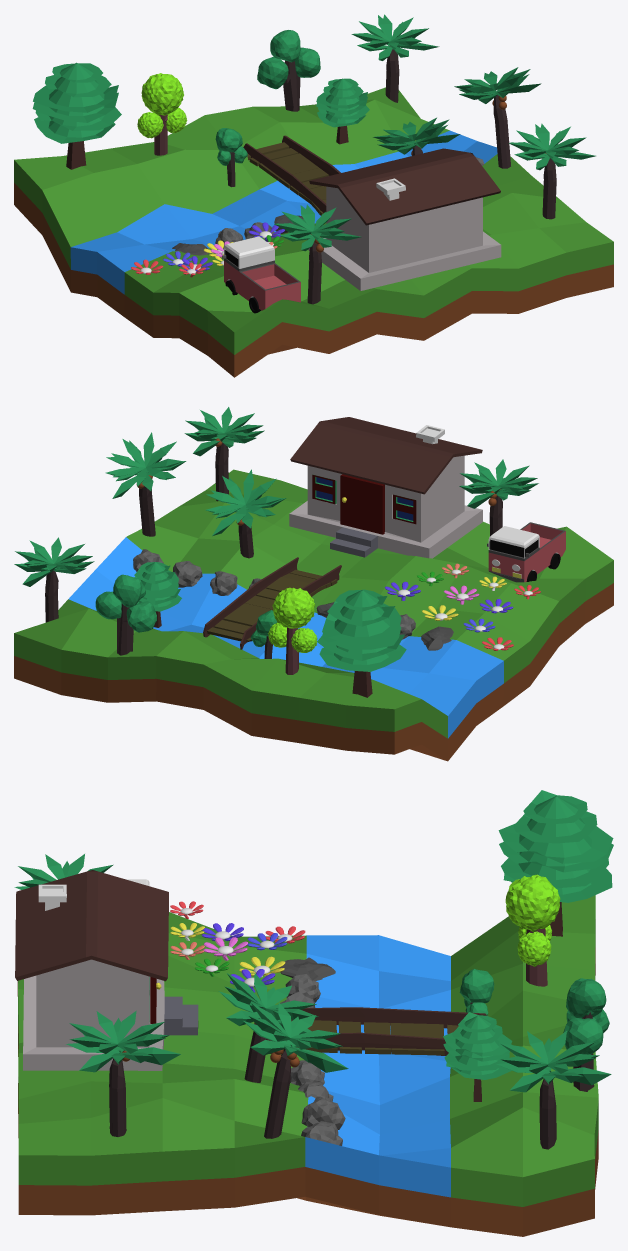
The model's file is Island  2.fbx.
The picture shows the model from 3 angles, top to bottom: view 1: azimuth 30°, elevation 25°; view 2: azimuth 150°, elevation 25°; view 3: azimuth 270°, elevation 25°; orthographic projection. The views are drawn at different scales.
Parts seen in each view (by area): view 1: terreno, House, ROOF, Pine, Car, Bridge, tree 3, Tree 4, Cococonut tree 1, Coconut tree, Coconut tree.002, Cocunt tree 3 (+3 smaller); view 2: terreno, House, ROOF, Pine, Bridge, Car, Cocunt tree 3, Tree 4, tree 3, Coconut tree 2, Coconut tree, Coconut tree.002 (+8 smaller); view 3: terreno, ROOF, House, Pine, Bridge, Cocunt tree 3, Coconut tree, Coconut tree.002, Tree 4, Pine.002, Coconut tree 2, tree 3 (+8 smaller).
Part boxes in pixels (left/top/right/bottom): terreno: left=14, top=87, right=613, bottom=377; House: left=308, top=186, right=501, bottom=290; ROOF: left=309, top=148, right=500, bottom=225; Pine: left=32, top=62, right=121, bottom=169; Car: left=224, top=236, right=300, bottom=310; Bridge: left=243, top=135, right=340, bottom=215; tree 3: left=257, top=30, right=320, bottom=111; Tree 4: left=137, top=73, right=187, bottom=155; Cococonut tree 1: left=274, top=204, right=361, bottom=304; Coconut tree: left=509, top=123, right=595, bottom=219; Coconut tree.002: left=351, top=14, right=439, bottom=102; Cocunt tree 3: left=454, top=67, right=541, bottom=168; terreno: left=14, top=469, right=613, bottom=761; House: left=289, top=455, right=482, bottom=558; ROOF: left=290, top=417, right=482, bottom=494; Pine: left=317, top=589, right=406, bottom=697; Bridge: left=203, top=557, right=341, bottom=649; Car: left=488, top=522, right=565, bottom=582; Cocunt tree 3: left=105, top=432, right=186, bottom=536; Tree 4: left=268, top=587, right=317, bottom=674; tree 3: left=95, top=574, right=156, bottom=655; Coconut tree 2: left=205, top=469, right=286, bottom=558; Coconut tree: left=184, top=407, right=264, bottom=501; Coconut tree.002: left=14, top=537, right=94, bottom=622; terreno: left=17, top=895, right=598, bottom=1236; ROOF: left=15, top=870, right=168, bottom=981; House: left=23, top=959, right=198, bottom=1070; Pine: left=498, top=790, right=613, bottom=936; Bridge: left=254, top=1007, right=486, bottom=1055; Cocunt tree 3: left=243, top=1002, right=348, bottom=1138; Coconut tree: left=66, top=1010, right=180, bottom=1136; Coconut tree.002: left=496, top=1031, right=611, bottom=1149; Tree 4: left=505, top=874, right=560, bottom=986; Pine.002: left=443, top=1012, right=512, bottom=1101; Coconut tree 2: left=218, top=973, right=318, bottom=1082; tree 3: left=563, top=978, right=609, bottom=1091.
Size of the model in its own units: 810 by 369 by 801.
